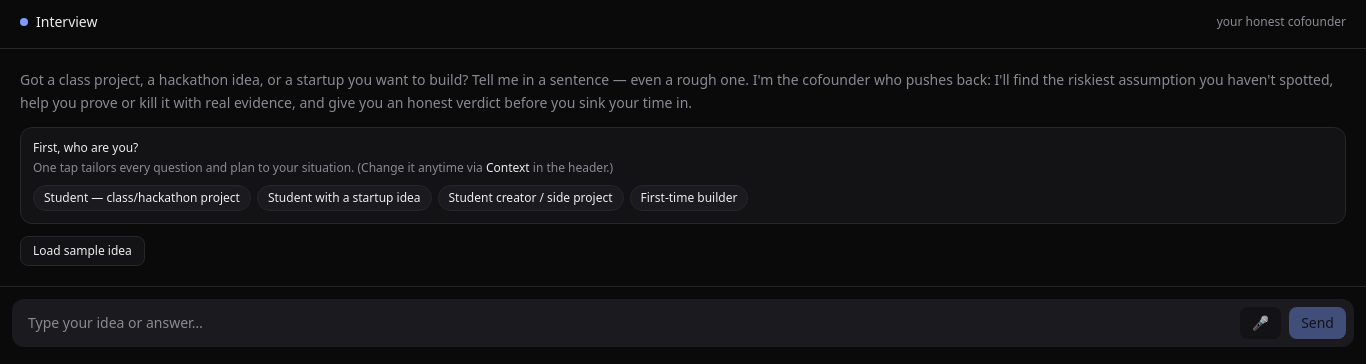
Test: InterviewPanel › surfaces a stream error to the user
The image size is (1366, 364).
In the text box with placeholder "Type your idea or answer…": (626, 323) [20,307,1232,339], type "hello"
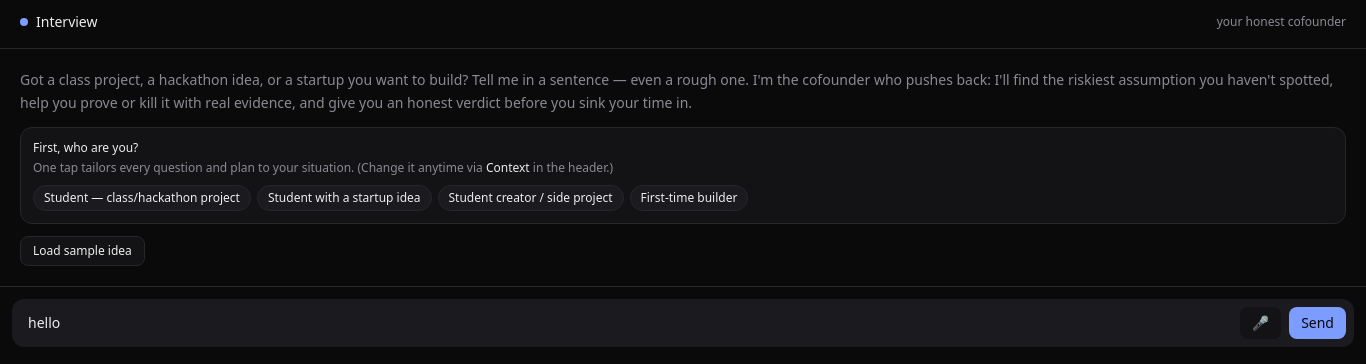
Click the button "Send": (1318, 323) [1289,307,1346,339]
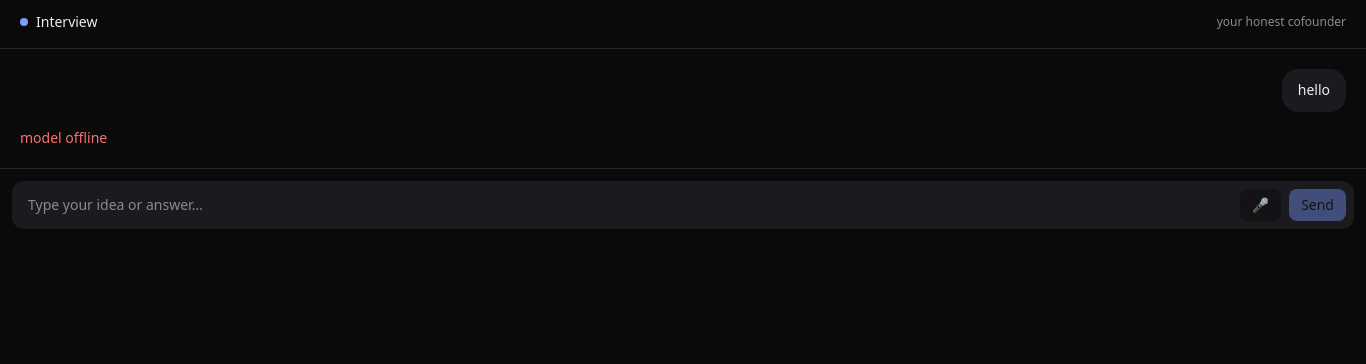
Expected: the text "model offline" is shown, [20,128,107,147]
